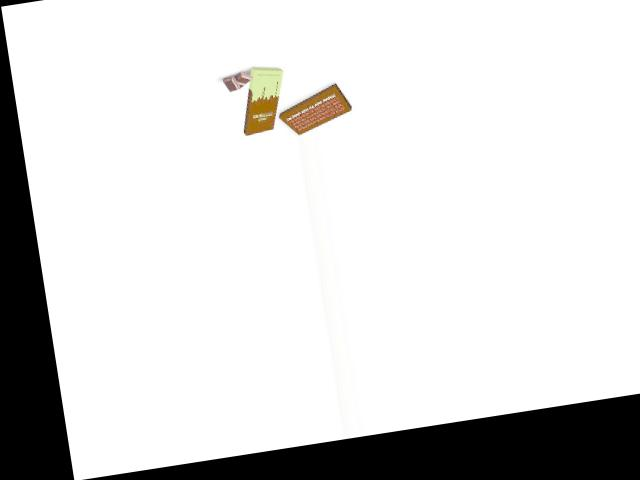chocolate: (238, 61, 288, 136)
